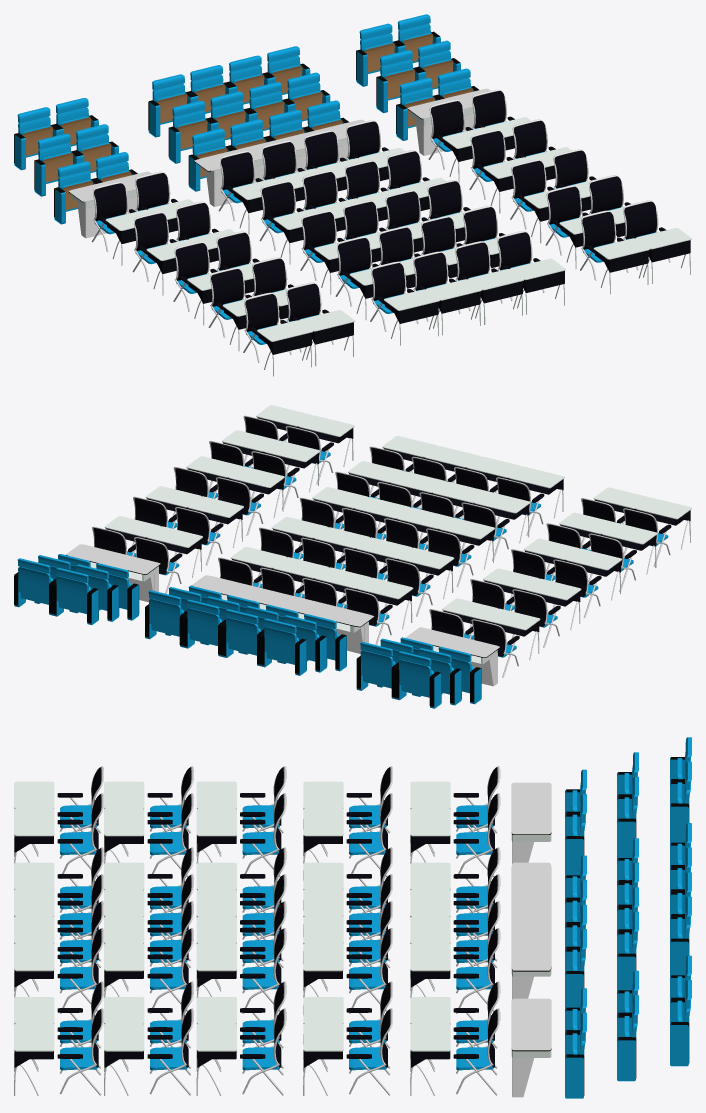
Rendered from chair.glb.
3 views of the same model, one above another, from view 1: azimuth 30°, elevation 25°; view 2: azimuth 150°, elevation 25°; view 3: azimuth 270°, elevation 25° (orthographic). The views are drawn at different scales.
Parts seen in each view (by area): view 1: 立方体.195, Cube.022, Cube.037, Cube.042, Cube.002, Cube.038, Cube.041, Cube.014, Cube.017, Cube.021, Cube.026, Cube.046 (+48 smaller); view 2: 立方体.195, 立方体.184, 立方体.191, Cube.148, Cube.166, Cube.154, Cube.157, Cube.163, Cube.151, Cube.160, Cube.145, Cube.009 (+83 smaller); view 3: 立方体.195, 立方体.184, 立方体.191, 立方体.038, 立方体.041, 立方体.057, 立方体.070, 立方体.086, 立方体.089, 立方体.158, 立方体.022, 立方体.126 (+55 smaller).
Part boxes in pixels (x1,y1,x2,y2): 立方体.195: (194,119,364,171); Cube.022: (471,131,504,168); Cube.037: (263,142,295,179); Cube.042: (473,90,505,128); Cube.002: (428,181,461,219); Cube.038: (221,152,253,189); Cube.041: (431,101,463,138); Cube.014: (175,243,208,280); Cube.017: (135,213,167,250); Cube.021: (514,120,546,158); Cube.026: (304,172,336,209); Cube.046: (94,183,126,220); 立方体.195: (191,575,374,627); 立方体.184: (66,544,160,574); 立方体.191: (405,627,499,657); Cube.148: (56,576,88,608); Cube.166: (360,650,393,682); Cube.154: (149,598,181,630); Cube.157: (226,617,258,649); Cube.163: (399,659,431,691); Cube.151: (187,608,219,640); Cube.160: (264,627,296,658); Cube.145: (18,567,50,598); Cube.009: (217,478,249,514); 立方体.195: (511,862,551,971); 立方体.184: (511,998,551,1051); 立方体.191: (511,782,551,834); 立方体.038: (303,808,343,836); 立方体.041: (303,1023,343,1051); 立方体.057: (303,943,343,971); 立方体.070: (410,943,450,971); 立方体.086: (410,1023,450,1051); 立方体.089: (410,808,450,836); 立方体.158: (14,808,54,836); 立方体.022: (196,1023,236,1051); 立方体.126: (104,808,144,836).
Size of the model in its own units: 45.26 by 7.62 by 48.19.
